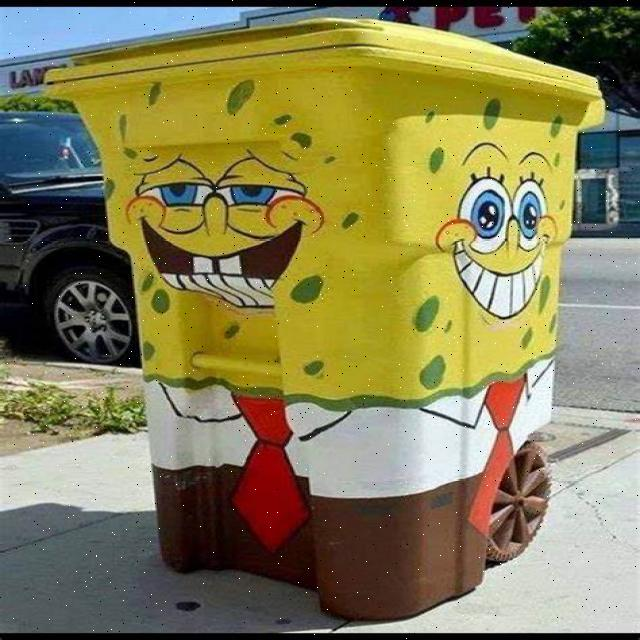garbage container: (19, 26, 626, 620)
